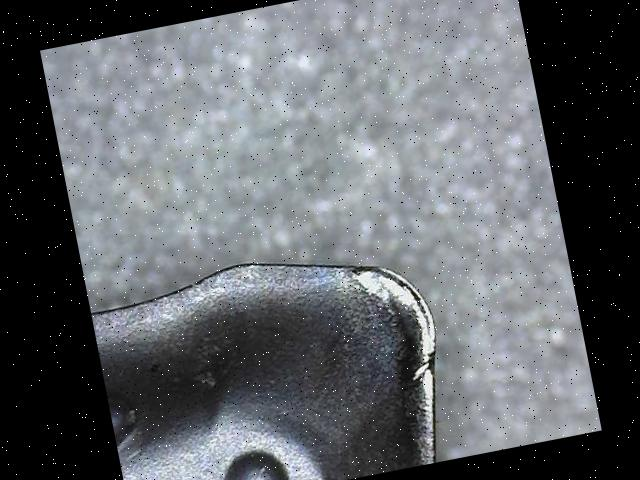normal: (95, 267, 348, 341), (407, 368, 433, 467)
wear: (352, 265, 436, 407)
